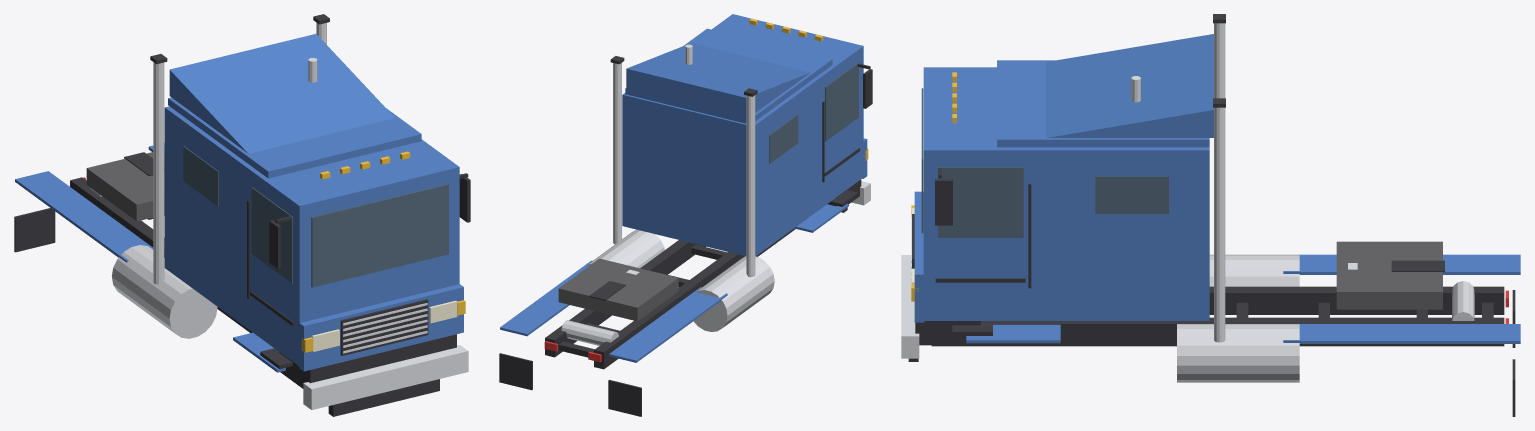
File: tractor.glb
The picture shows the model from 3 angles, left to right: view 1: azimuth 30°, elevation 25°; view 2: azimuth 150°, elevation 25°; view 3: azimuth 270°, elevation 25°; orthographic projection. The views are drawn at different scales.
Visible parts, largest first — view 1: tractor; view 2: tractor; view 3: tractor.
Boxes of the visible parts, x1,y1,x2,y2 form: tractor: (14, 14, 470, 416); tractor: (499, 14, 872, 416); tractor: (901, 14, 1520, 416).
Size of the model in its own units: 2.89 by 4.22 by 7.57.
